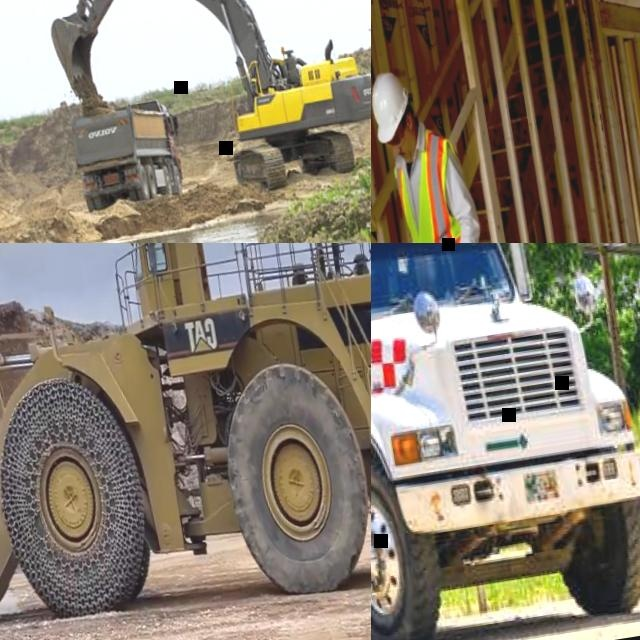Hardhat: (371, 69, 413, 143)
NO-Mask: (401, 143, 415, 165)
Person: (371, 62, 533, 243)
Safety Vest: (387, 119, 492, 243)
machinery: (0, 243, 371, 640), (371, 243, 640, 640), (30, 0, 371, 220), (65, 95, 191, 214)
